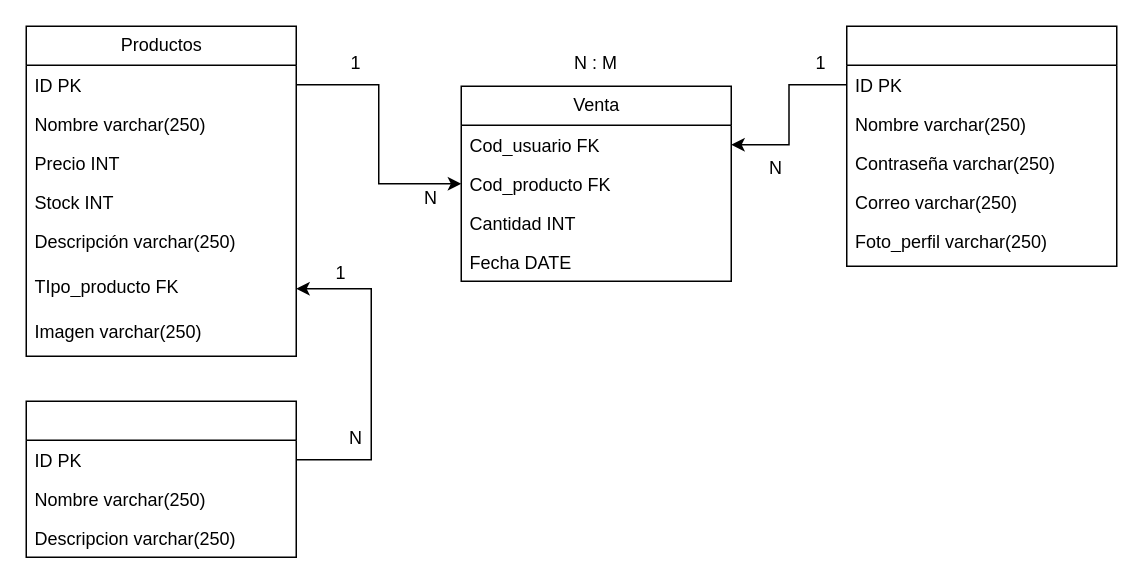
The diagram is 1143 pixels wide and 588 high, and some of its shapes have lost their labels. The shapes that lost their labels are listed below. From the top down, each one's box as (x1, y1, x2, y2) in pixels, then its label:
(845, 25, 1117, 266): Usuario
(25, 400, 296, 557): Tipos
